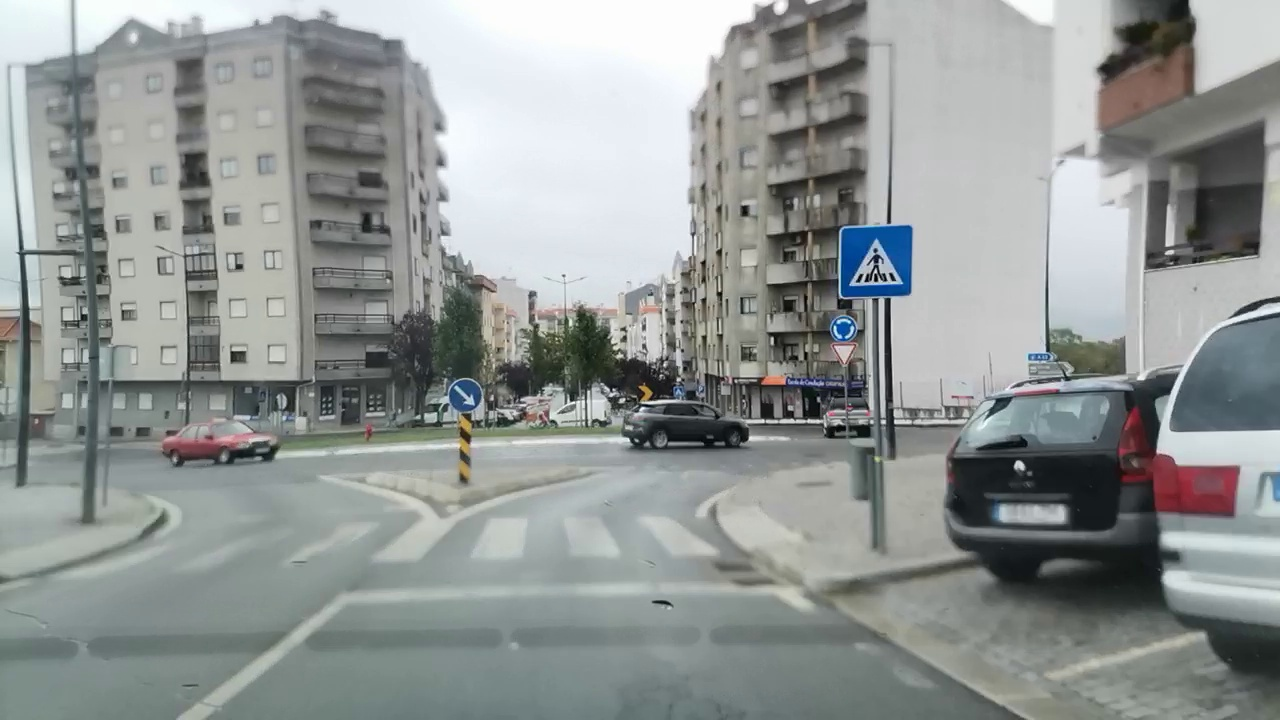Stairs: (66, 513, 724, 579)
